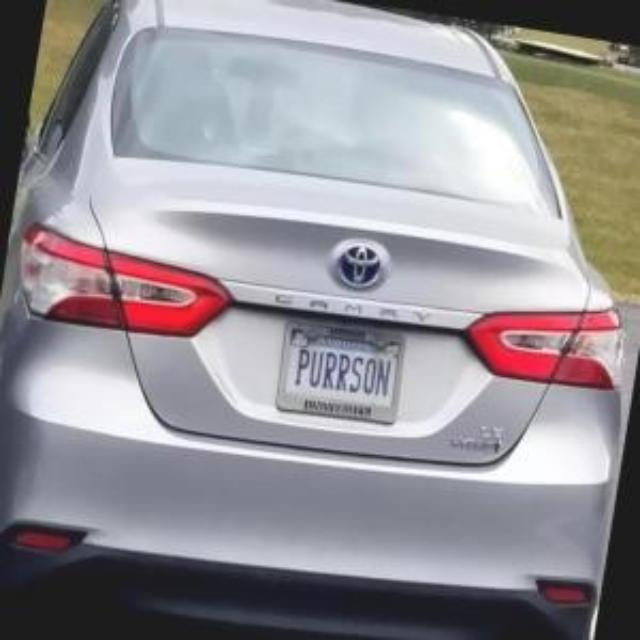License Plate: (274, 320, 408, 424)
